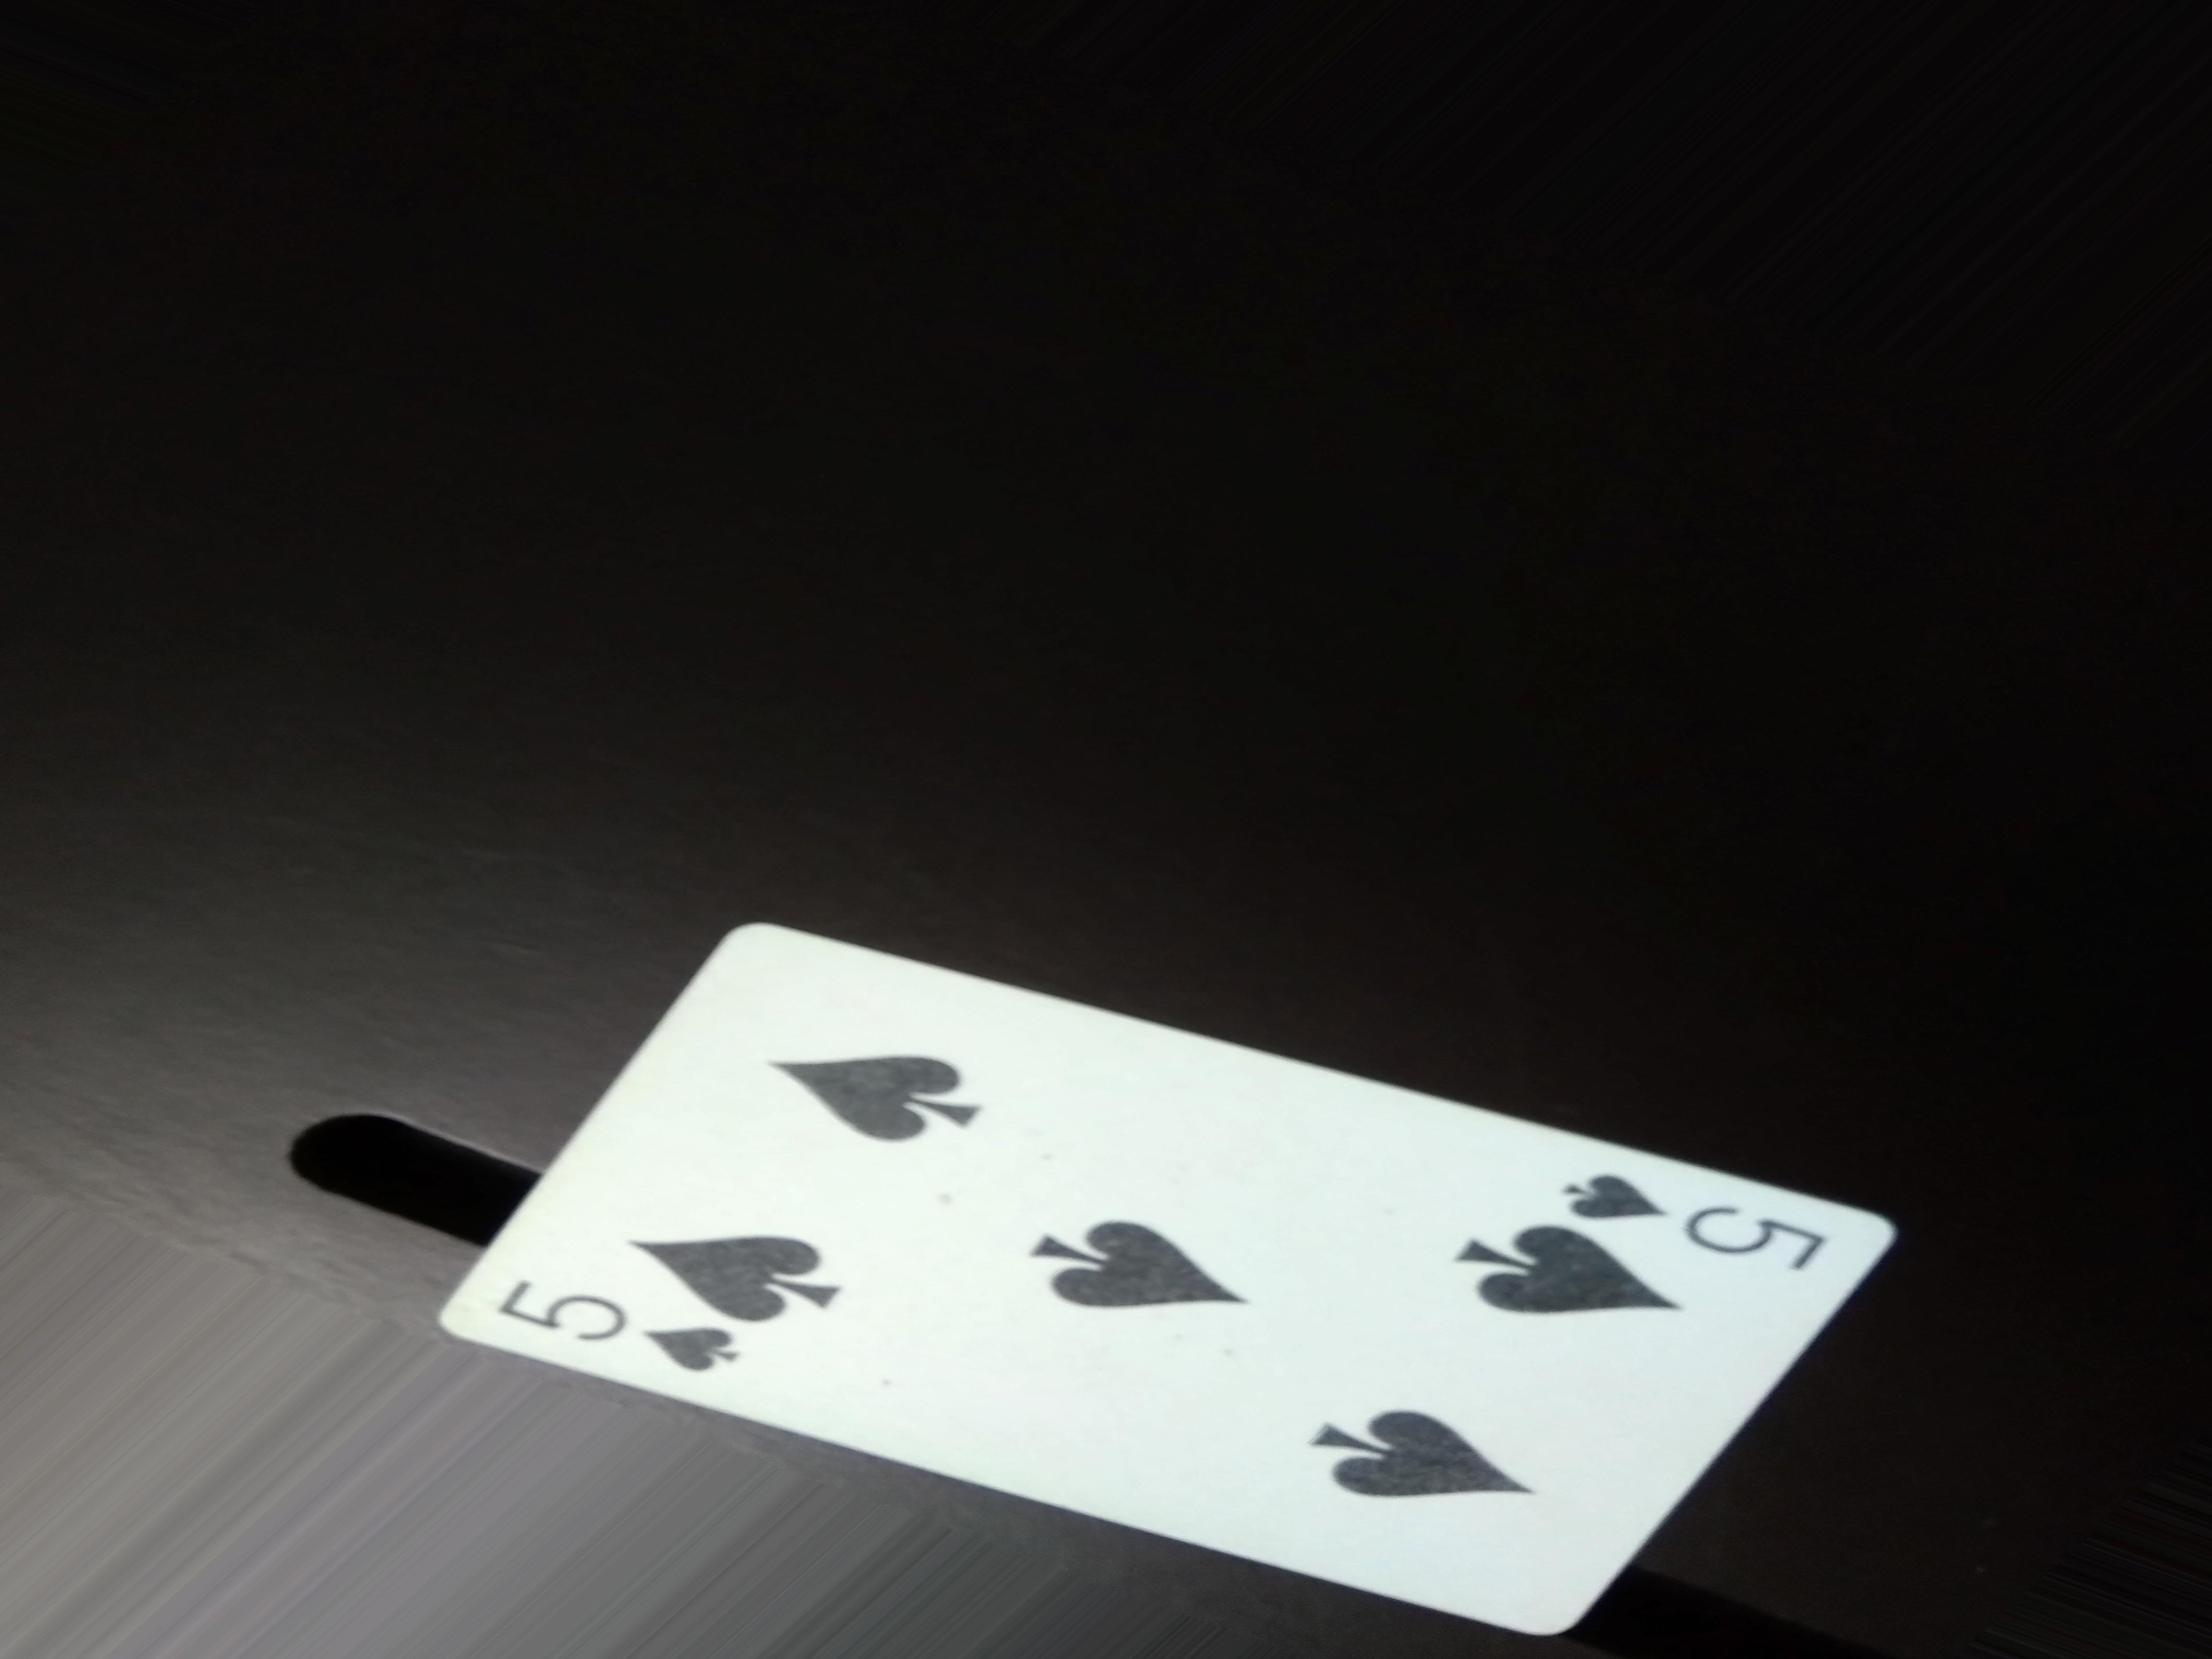5S: (1561, 1154, 1841, 1281)
